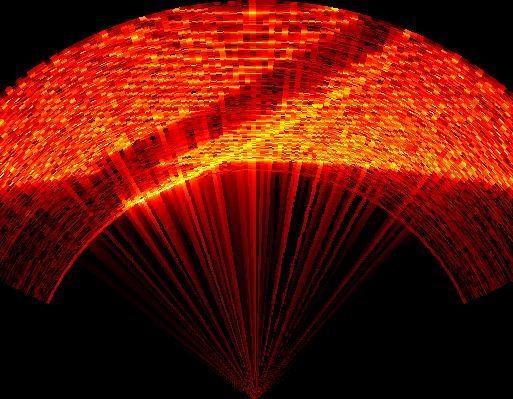pipe: (96, 15, 408, 203)
